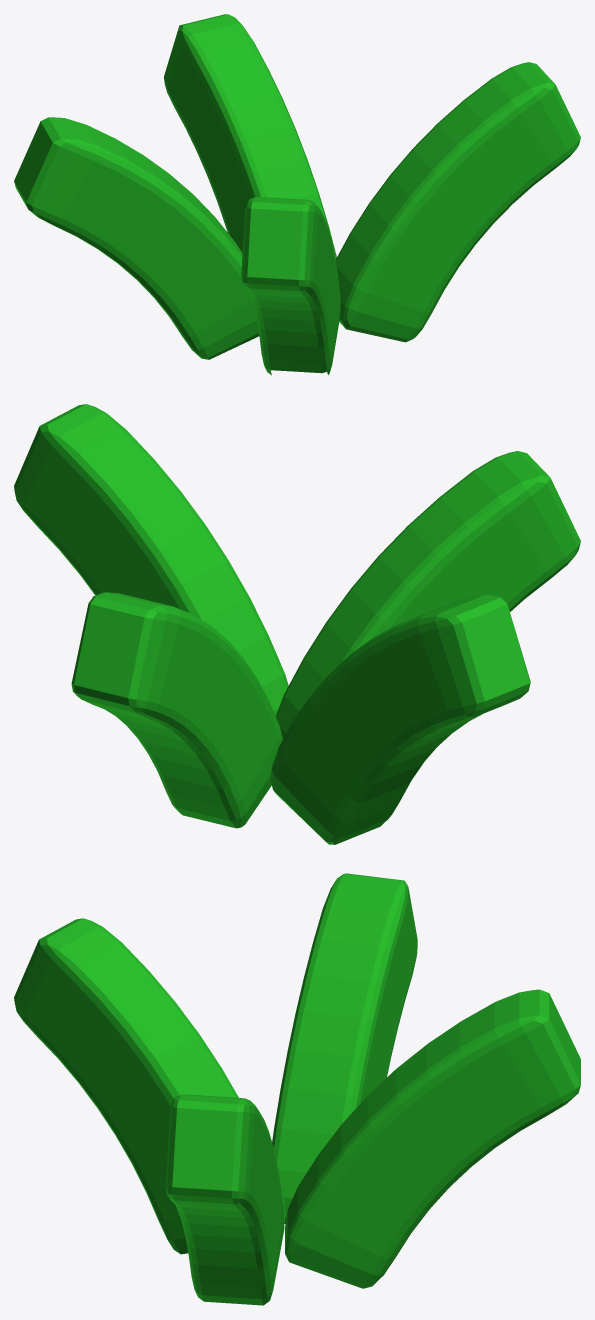
The model's file is halfDevelopedCarrot.fbx.
3 views of the same model, one above another, from view 1: azimuth 30°, elevation 25°; view 2: azimuth 150°, elevation 25°; view 3: azimuth 270°, elevation 25° (orthographic). The views are drawn at different scales.
Visible parts, largest first — view 1: halfDeveloped_carrot; view 2: halfDeveloped_carrot; view 3: halfDeveloped_carrot.
Part boxes in pixels (x1,y1,x2,y2): halfDeveloped_carrot: (14,14,580,375); halfDeveloped_carrot: (14,404,580,844); halfDeveloped_carrot: (14,873,580,1305).
Bounding box in the file's own units: 47.34 × 22.84 × 41.62.
